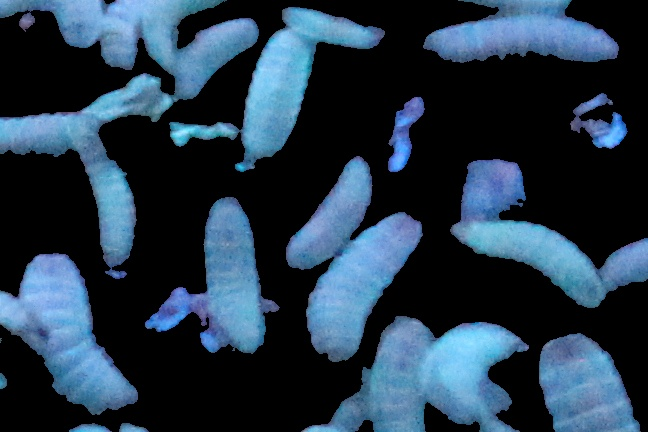larvae: (19, 252, 139, 411), (305, 214, 423, 362), (453, 216, 606, 308), (371, 196, 456, 324), (241, 30, 316, 167), (425, 323, 530, 420), (286, 156, 372, 271), (421, 15, 622, 64), (200, 197, 263, 353), (539, 336, 640, 432), (76, 148, 136, 268), (1, 96, 85, 179), (172, 20, 257, 99), (370, 321, 429, 432), (144, 1, 222, 70), (1, 1, 100, 49), (282, 6, 385, 50), (99, 1, 143, 72), (598, 238, 648, 293), (1, 286, 36, 337)
